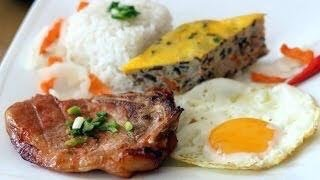sandwich: (0, 5, 318, 178)
